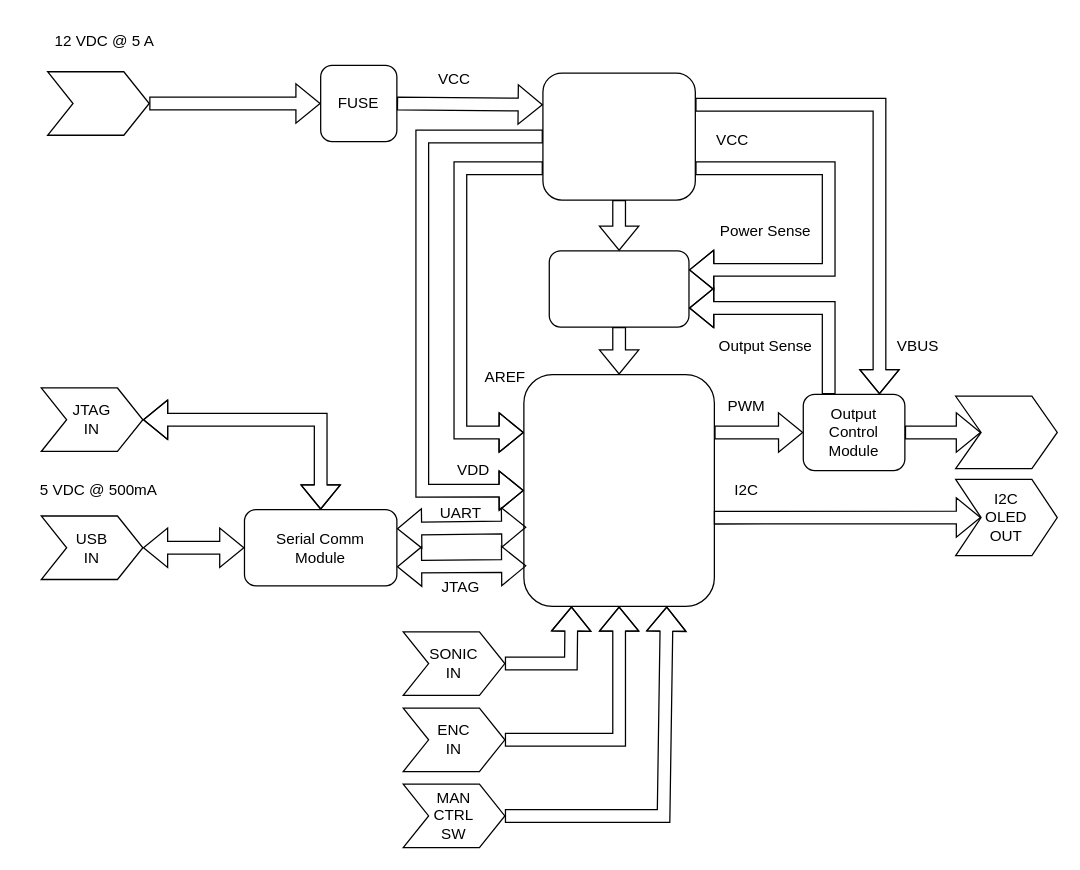
This 1080x870 diagram has some shape labels left out. Each missing label, with the box of its shape:
Analog Measurement Module: (548, 250, 689, 327)
LED OUT: (954, 395, 1057, 469)
MCU & Digital Module: (523, 373, 714, 606)
Power Distribution Module: (542, 72, 695, 200)
PWR IN: (46, 70, 149, 135)
